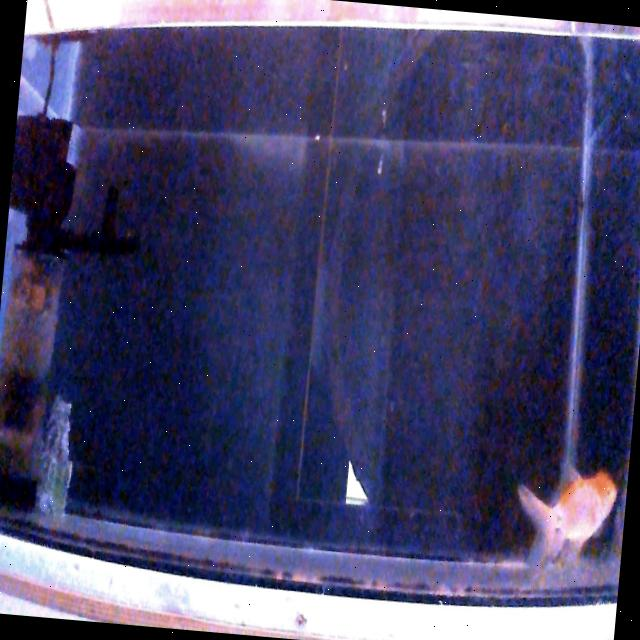fish: (512, 460, 620, 562)
